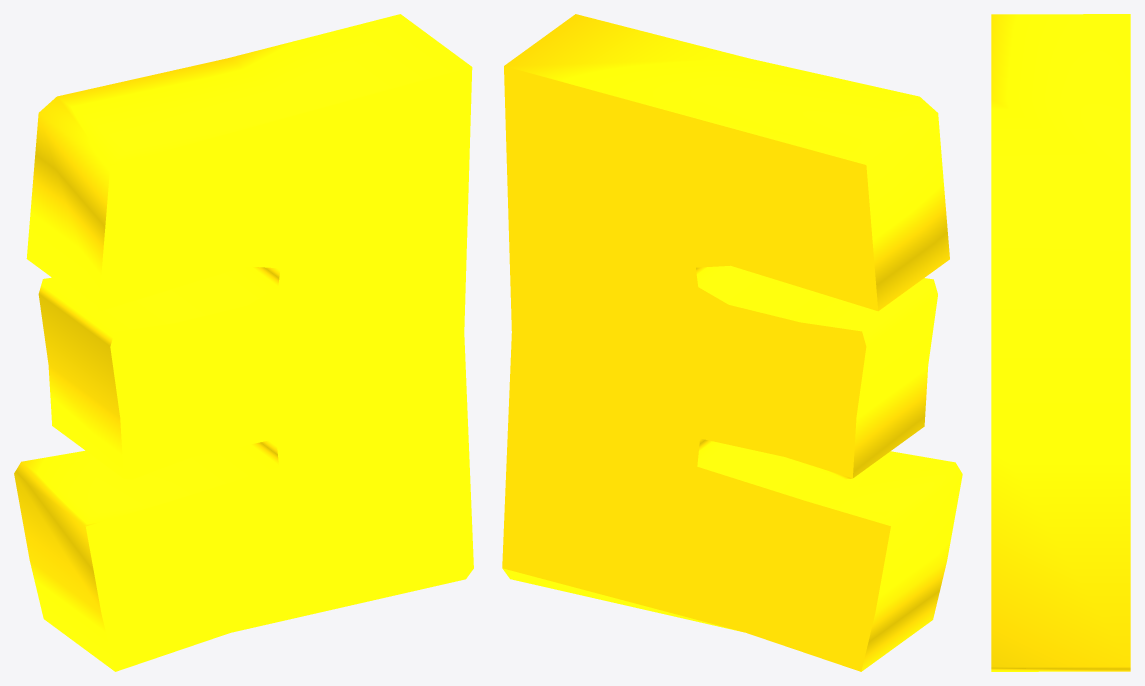
The model's file is yellow_e.glb.
3 views of the same model, side by side, from view 1: azimuth 30°, elevation 25°; view 2: azimuth 150°, elevation 25°; view 3: azimuth 270°, elevation 25° (orthographic). The views are drawn at different scales.
Visible parts, largest first — view 1: Yellow_E; view 2: Yellow_E; view 3: Yellow_E.
Part boxes in pixels (<box>): Yellow_E: <box>14,14,473,671</box>; Yellow_E: <box>502,14,962,671</box>; Yellow_E: <box>991,14,1130,671</box>.
Size of the model in its own units: 0.3437 by 0.4397 by 0.1099.
Materials: 1 (1 with a texture image).
